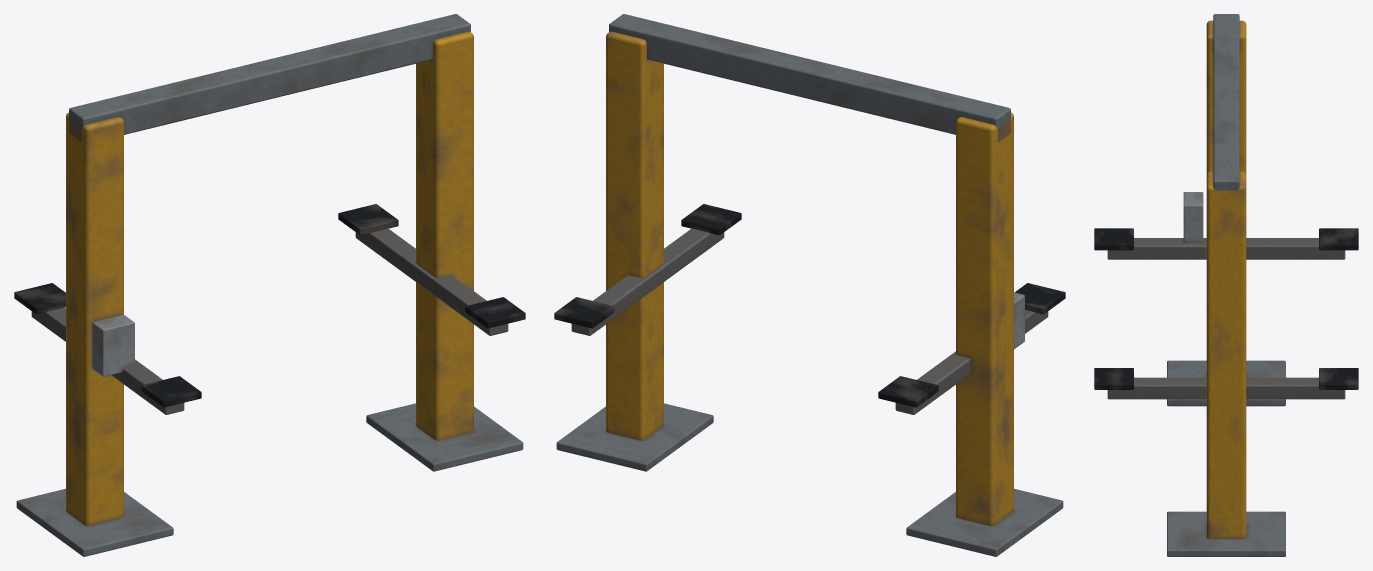
File: wulkan_podnosnik.glb
3 renders of one model, left to right at view 1: azimuth 30°, elevation 25°; view 2: azimuth 150°, elevation 25°; view 3: azimuth 270°, elevation 25°, orthographic. The views are drawn at different scales.
Visible parts, largest first — view 1: Podnosnik; view 2: Podnosnik; view 3: Podnosnik.
Part boxes in pixels (x1,y1,x2,y2): Podnosnik: (14,14,525,556); Podnosnik: (554,14,1065,556); Podnosnik: (1094,14,1358,556).
Size of the model in its own units: 3.4 by 3.05 by 2.
1 material, 1 textured.
